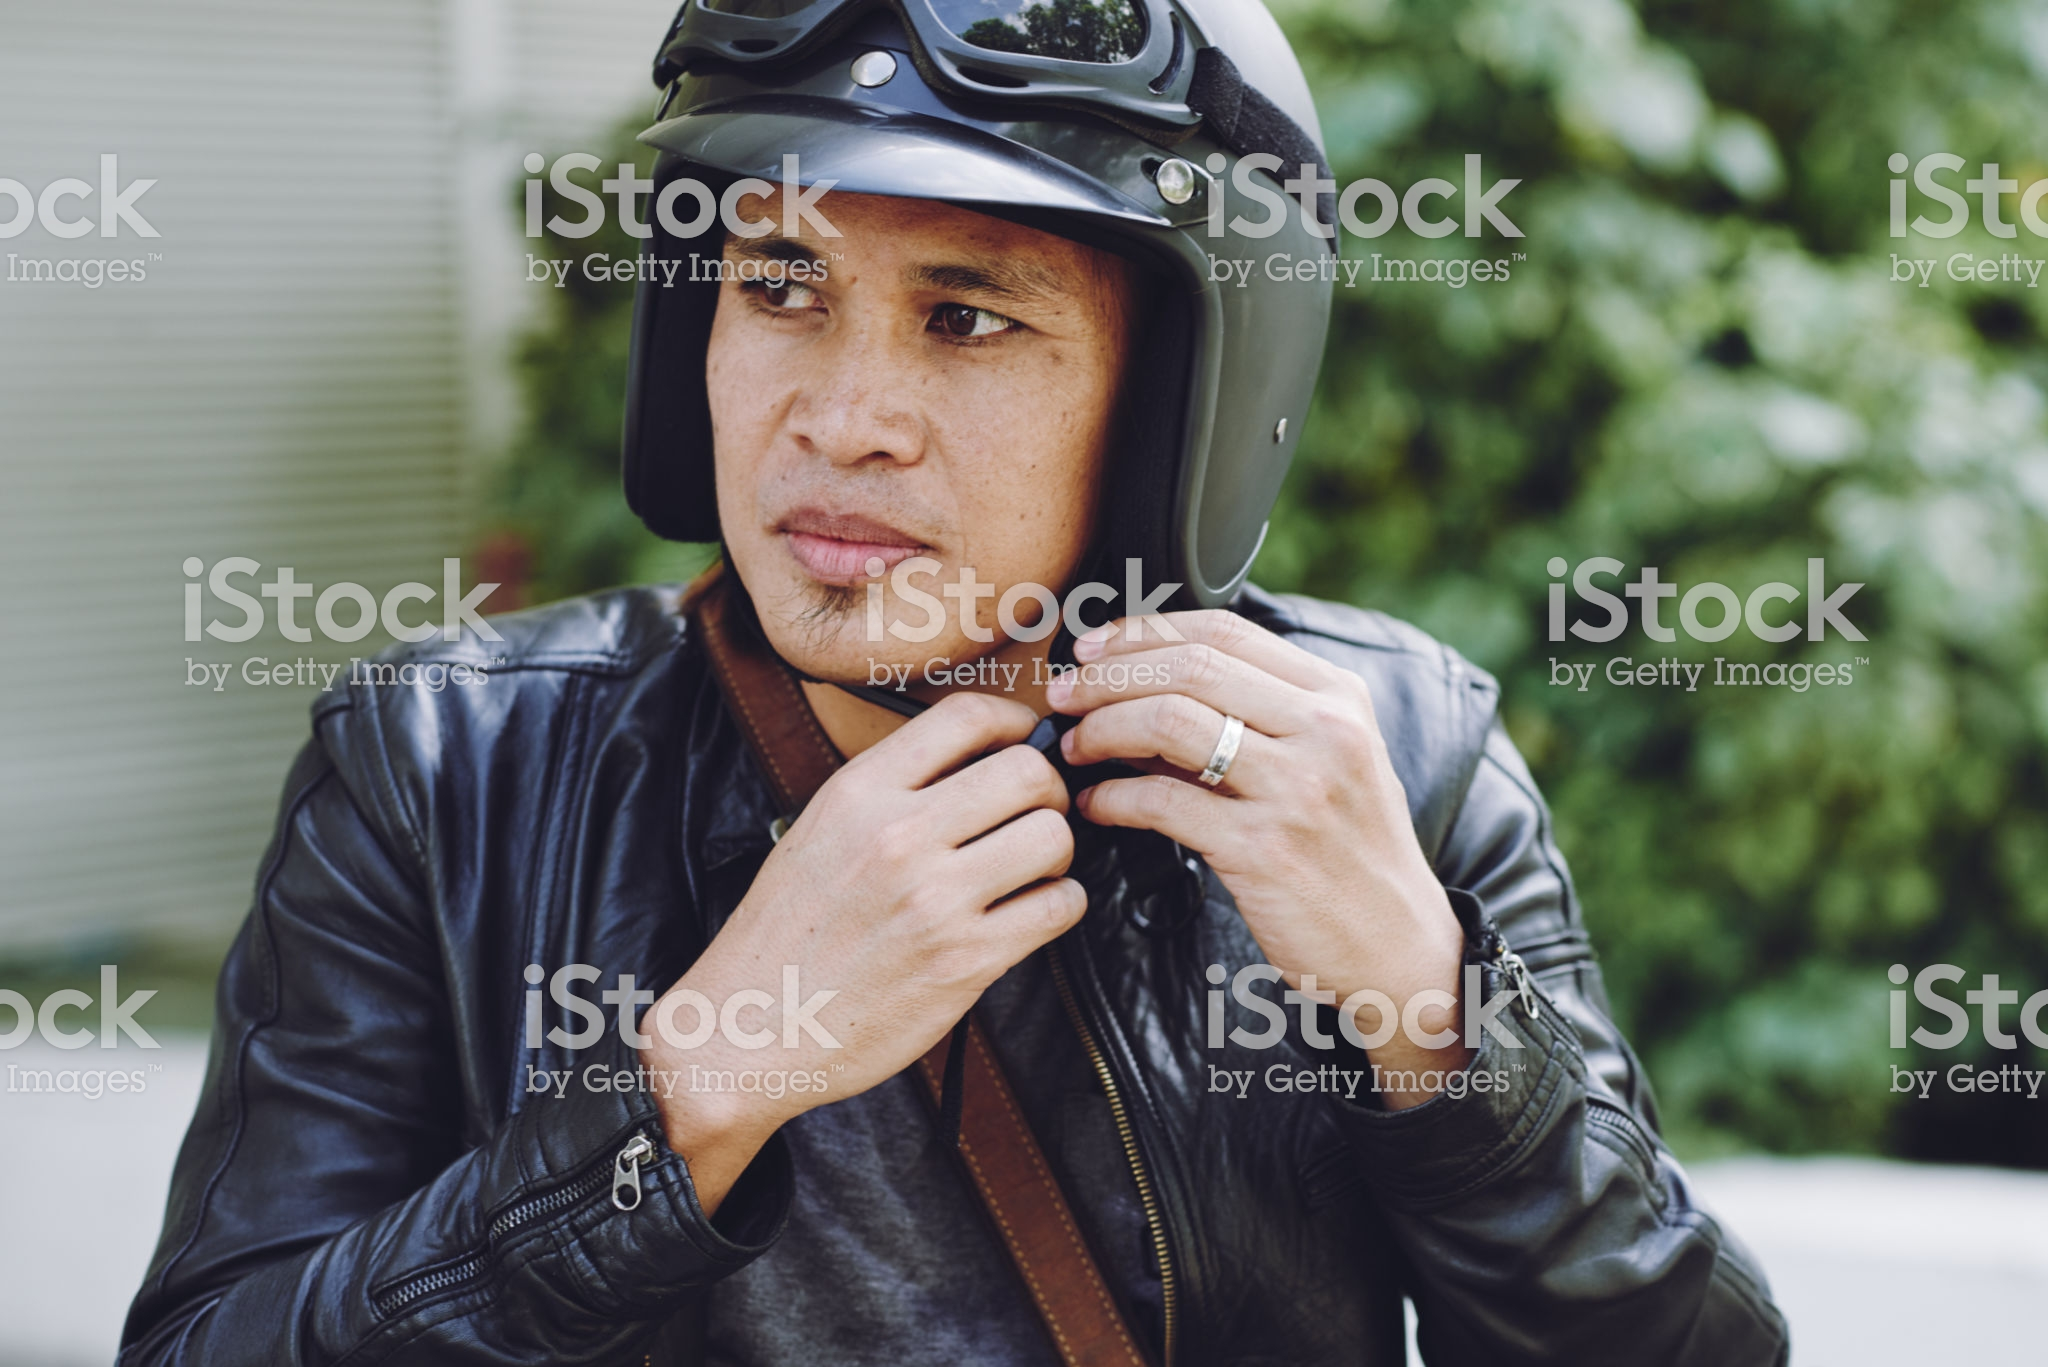helmet: (618, 9, 1354, 590)
